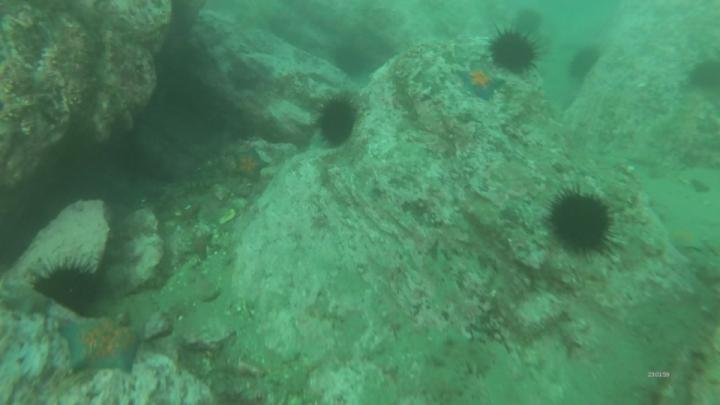echinus: (549, 194, 610, 253), (33, 271, 102, 311), (489, 34, 535, 71), (317, 104, 357, 145), (690, 56, 720, 88), (571, 47, 596, 79), (335, 46, 364, 73)
starfish: (63, 318, 137, 370), (457, 63, 506, 100), (235, 150, 264, 182), (191, 236, 217, 259)
